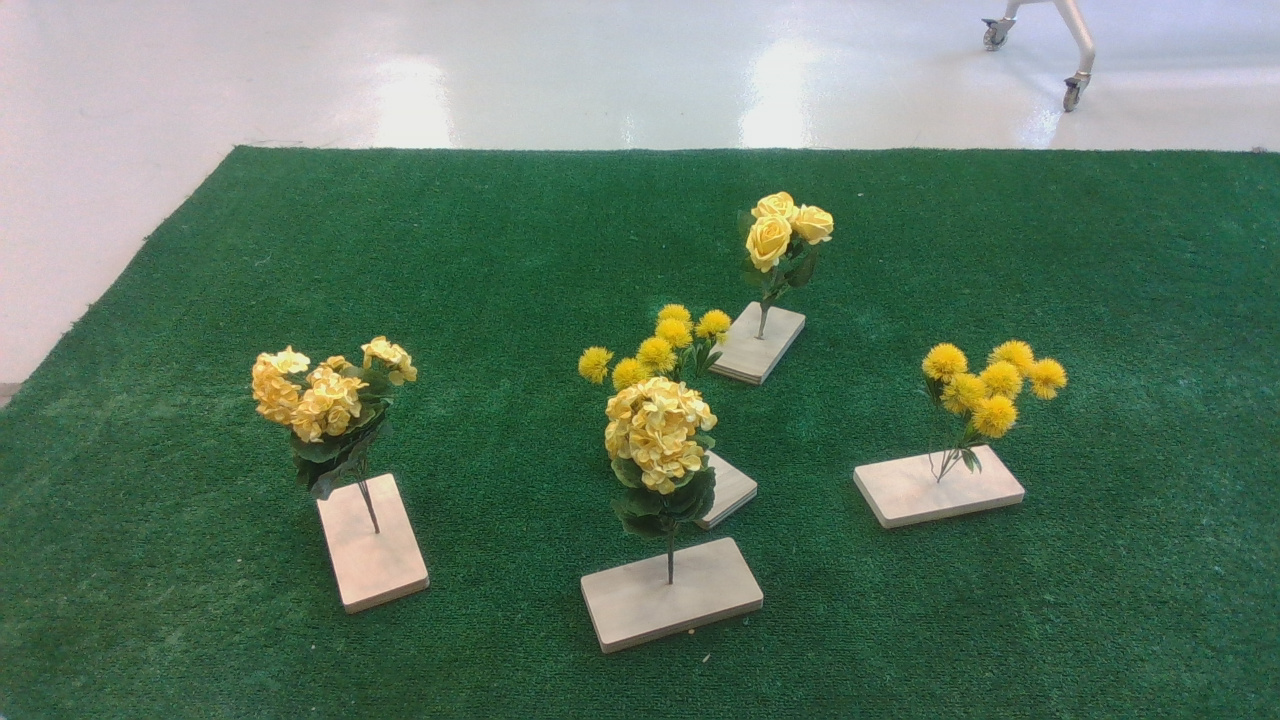dandelion: (904, 333, 1083, 454), (576, 313, 745, 379)
geranium: (242, 321, 441, 487), (602, 382, 725, 558)
rose: (728, 182, 859, 293)
